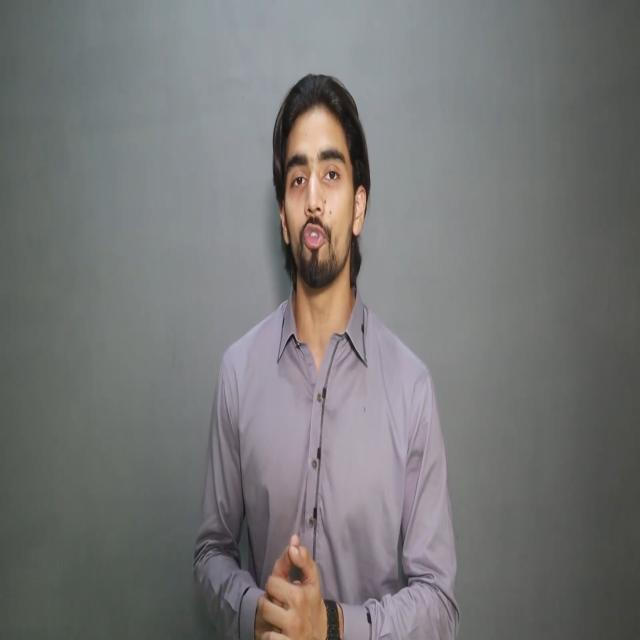dress: (191, 273, 463, 640)
